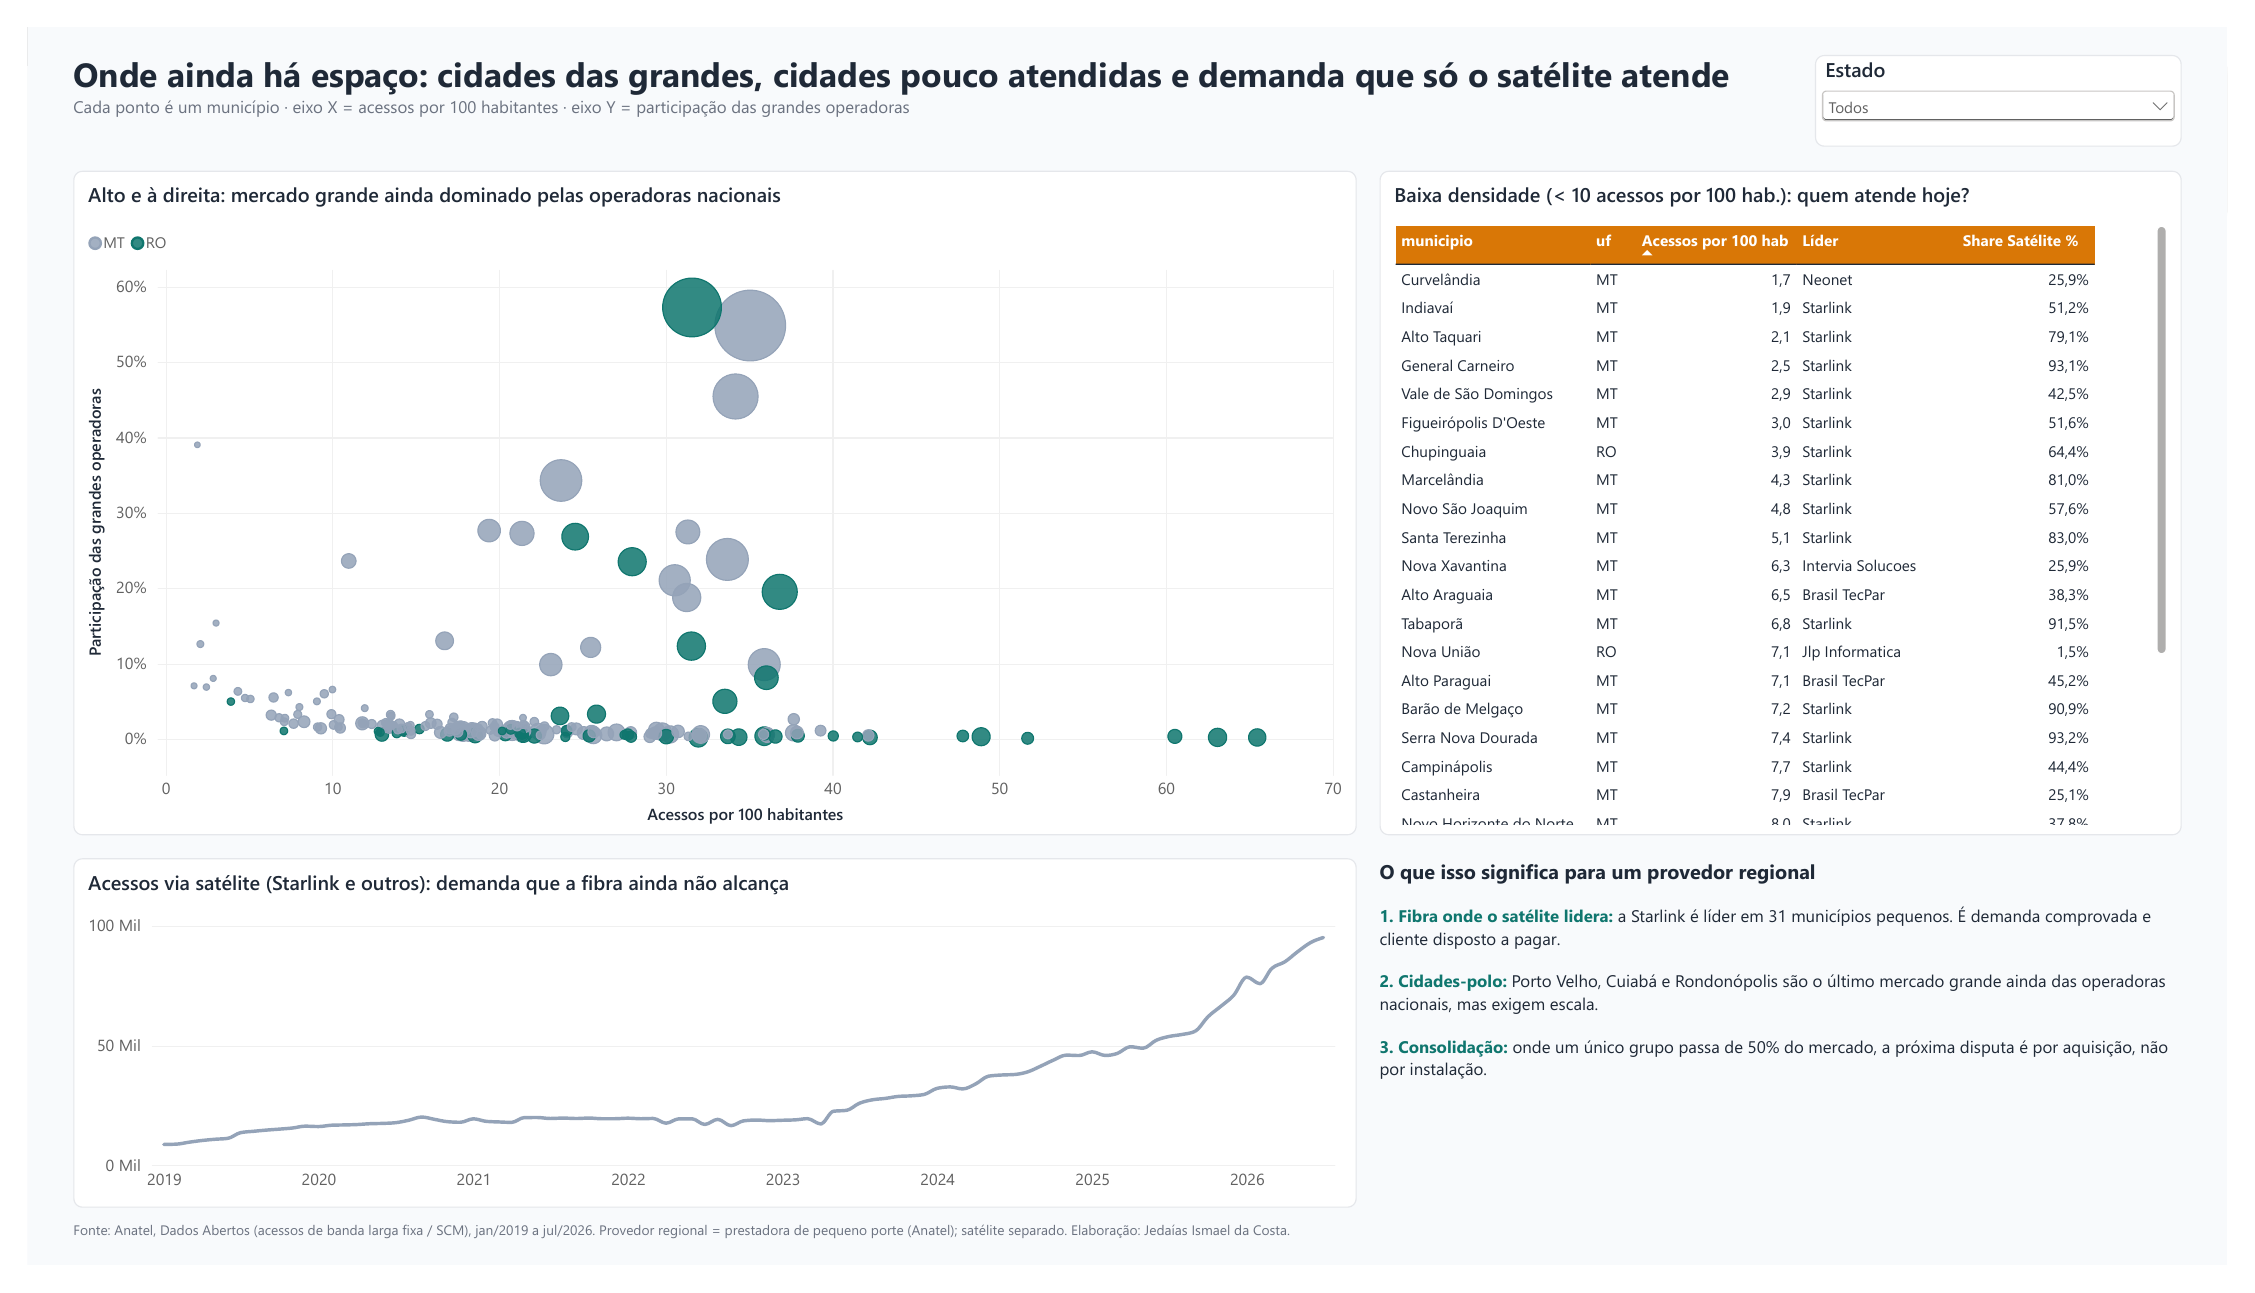

Layout of this report page (visuals, bound fields, positions):
{"tool":"powerbi","page":{"name":"Oportunidades","canvas":[1920,1080],"ordinal":2},"visuals":[{"type":"textbox","box":[40,20,1480,90],"z":0},{"type":"slicer","fields":{"Values":["dim_municipio.uf"]},"box":[1560,24,320,80],"z":1},{"type":"textbox","box":[40,1040,1840,32],"z":2},{"type":"scatterChart","title":"Alto e à direita: mercado grande ainda dominado pelas operadoras nacionais","fields":{"Category":["dim_municipio.municipio"],"Series":["dim_municipio.uf"],"Size":["fato_acessos.Acessos"],"X":["fato_acessos.Acessos por 100 hab"],"Y":["fato_acessos.Share Grandes %"]},"box":[40,125,1120,580],"z":3},{"type":"tableEx","title":"Baixa densidade (< 10 acessos por 100 hab.): quem atende hoje?","fields":{"Values":["dim_municipio.municipio","dim_municipio.uf","fato_acessos.Acessos por 100 hab","fato_acessos.Líder","fato_acessos.Share Satélite %"]},"box":[1180,125,700,580],"z":4},{"type":"lineChart","title":"Acessos via satélite (Starlink e outros): demanda que a fibra ainda não alcança","fields":{"Category":["dCalendario.Date"],"Y":["fato_acessos.Acessos Satélite"]},"box":[40,725,1120,305],"z":5},{"type":"textbox","box":[1180,725,700,305],"z":6}]}

Visuals, with their boxes in screenshot pixels (x1, y1, x2, y2), scaled from the page's 1920x1080 canvas onto the 2255x1293 screenshot:
textbox: pyautogui.locateOnScreen(47, 24, 1785, 132)
slicer - dim_municipio.uf: pyautogui.locateOnScreen(1832, 29, 2208, 125)
textbox: pyautogui.locateOnScreen(47, 1245, 2208, 1283)
"Alto e à direita: mercado grande ainda dominado pelas operadoras nacionais" scatterChart: pyautogui.locateOnScreen(47, 150, 1362, 844)
"Baixa densidade (< 10 acessos por 100 hab.): quem atende hoje?" tableEx: pyautogui.locateOnScreen(1386, 150, 2208, 844)
"Acessos via satélite (Starlink e outros): demanda que a fibra ainda não alcança" lineChart: pyautogui.locateOnScreen(47, 868, 1362, 1233)
textbox: pyautogui.locateOnScreen(1386, 868, 2208, 1233)
